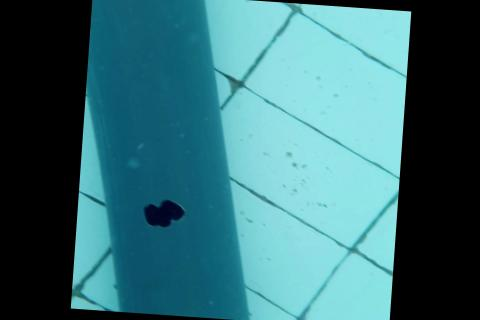kebocoran: (139, 197, 186, 230)
